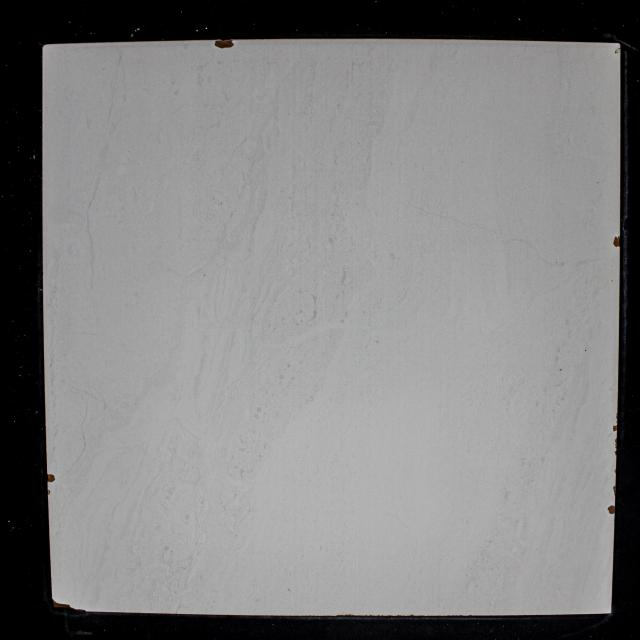edge-chipping: (213, 37, 236, 49), (52, 599, 70, 612), (613, 235, 621, 248), (46, 473, 56, 483), (607, 505, 616, 515), (70, 607, 86, 612), (613, 424, 618, 432), (613, 485, 616, 497)
hole: (560, 368, 562, 372), (585, 349, 587, 352)
